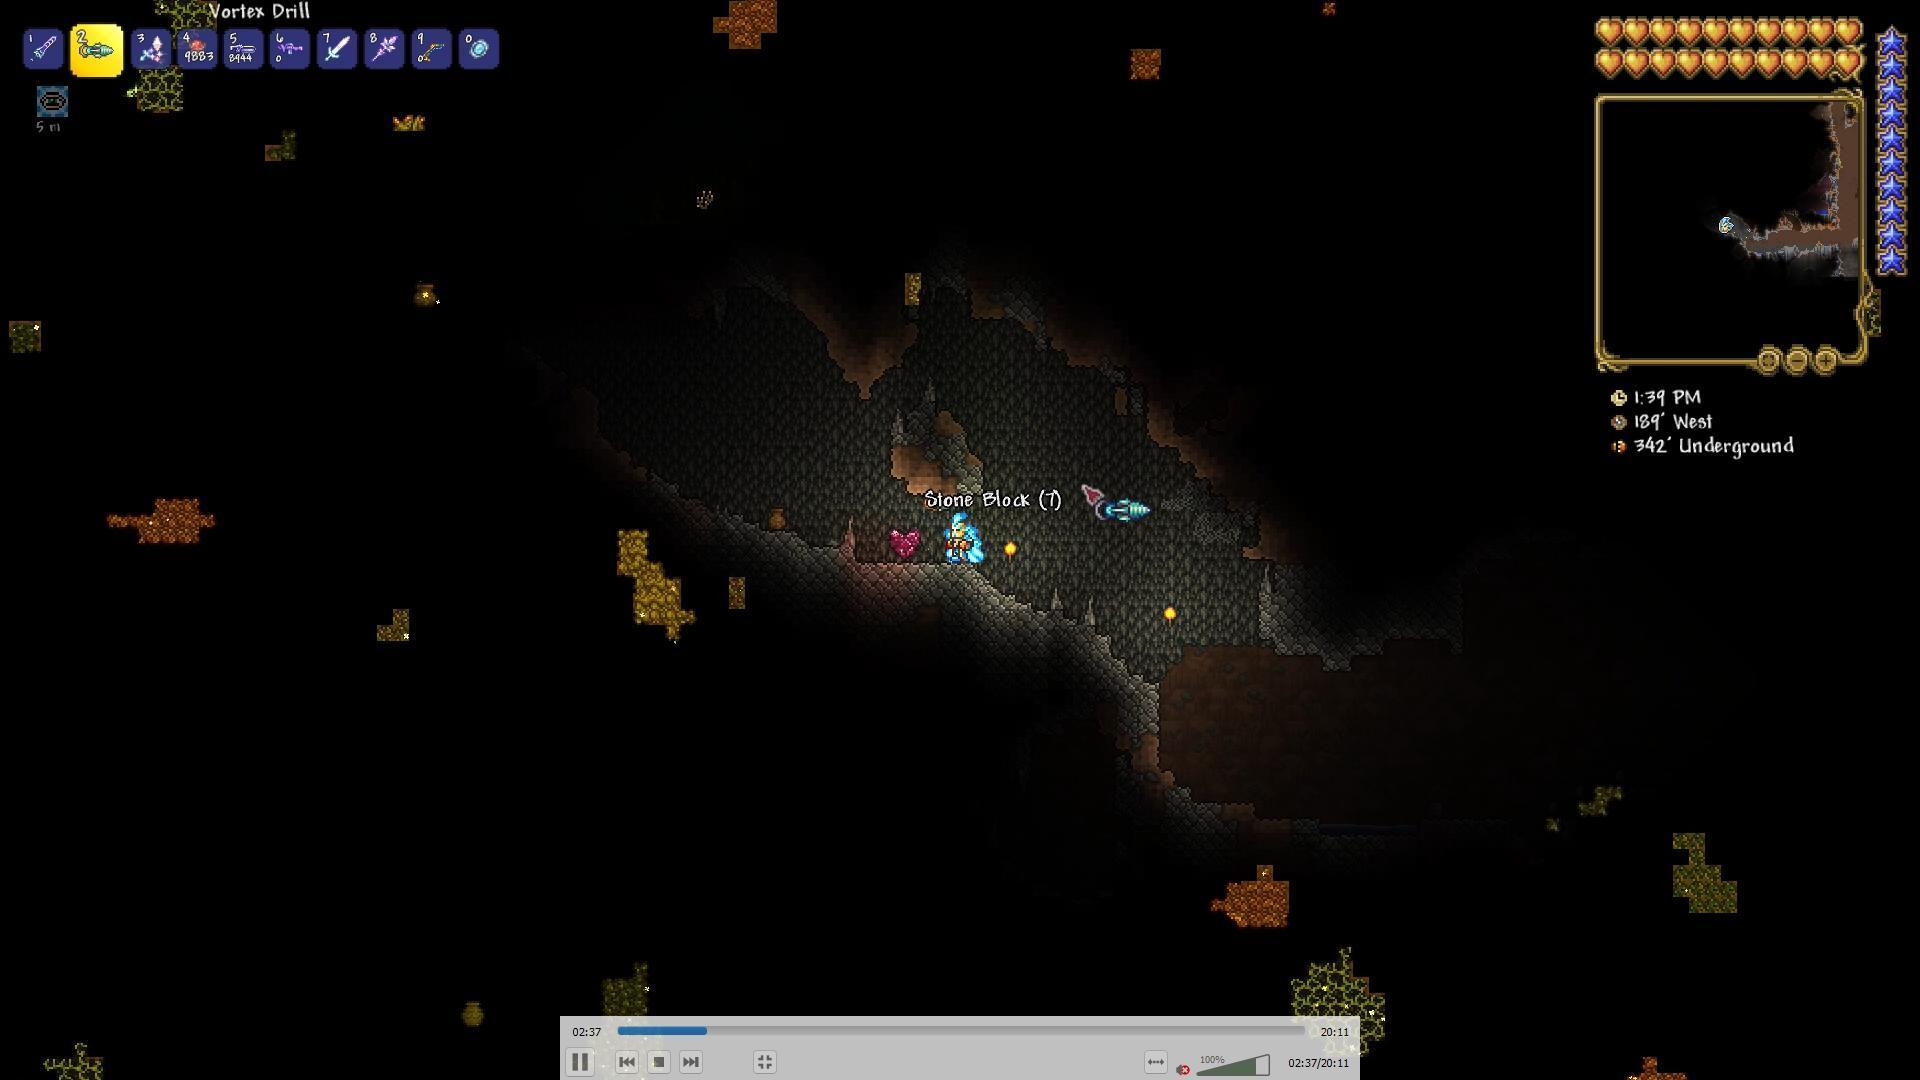lifeC: (887, 520, 926, 560)
pot: (460, 996, 491, 1029), (760, 501, 790, 533), (413, 280, 443, 311)
